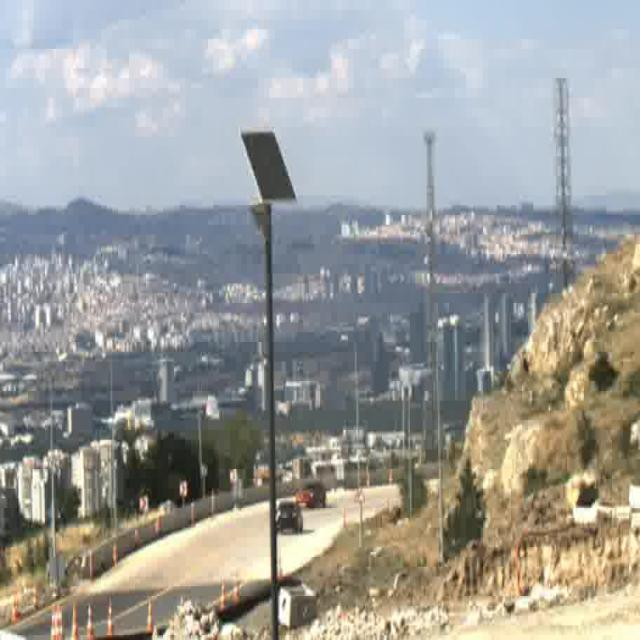Car: (296, 478, 326, 508), (275, 502, 303, 531)
